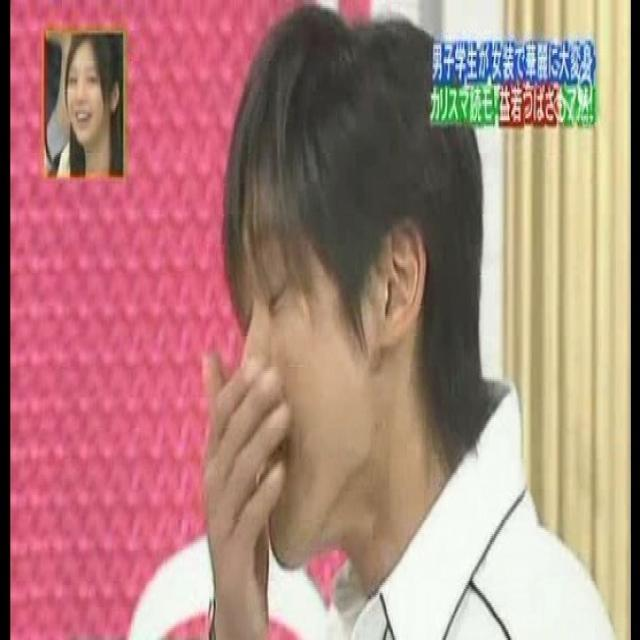nomask: (224, 196, 367, 570), (65, 48, 103, 140)
